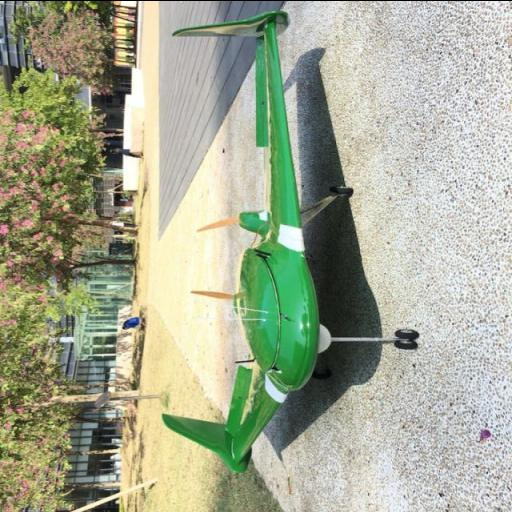uav: (163, 7, 417, 468)
